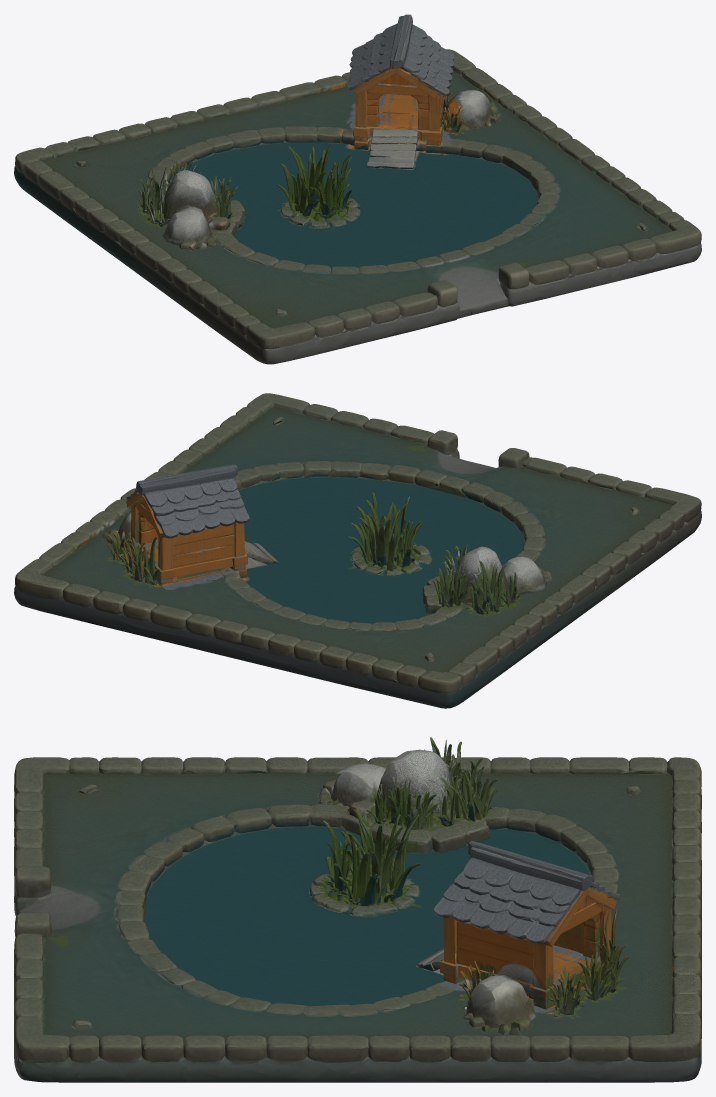
File: building_duck_pond.glb
The picture shows the model from 3 angles, top to bottom: view 1: azimuth 30°, elevation 25°; view 2: azimuth 150°, elevation 25°; view 3: azimuth 270°, elevation 25°; orthographic projection. The views are drawn at different scales.
Visible parts, largest first — view 1: output_unwrapped; view 2: output_unwrapped; view 3: output_unwrapped.
Part boxes in pixels (<box>): output_unwrapped: <box>14,14,701,364</box>; output_unwrapped: <box>14,393,701,708</box>; output_unwrapped: <box>14,737,701,1082</box>.
Bounding box in the file's own units: 2 × 0.4843 × 2.
1 material, 1 textured.
